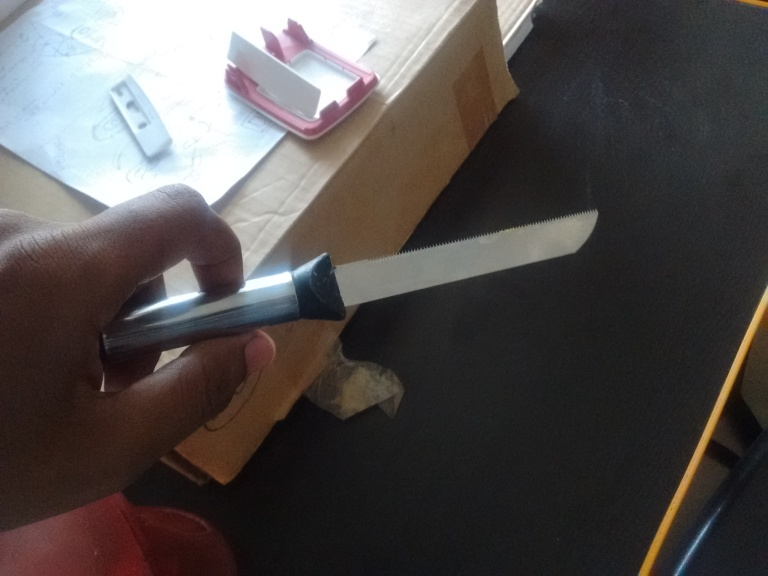knife: (281, 209, 598, 327)
